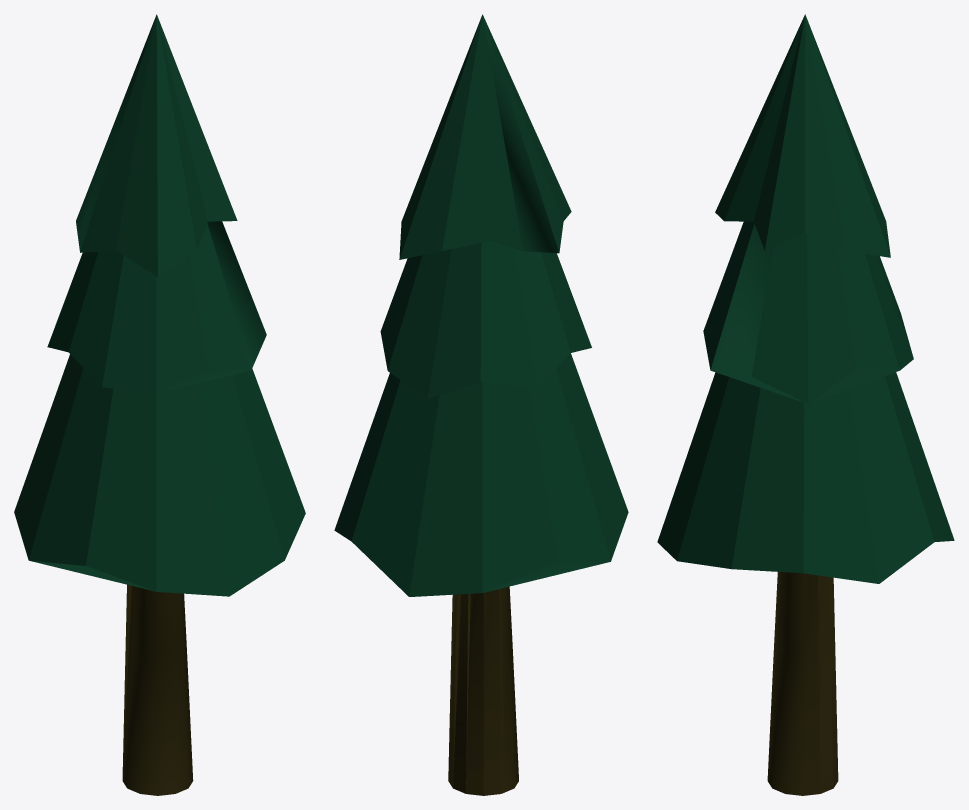
The model's file is prop_pine_large.glb.
3 renders of one model, left to right at view 1: azimuth 30°, elevation 25°; view 2: azimuth 150°, elevation 25°; view 3: azimuth 270°, elevation 25°, orthographic.
Visible parts, largest first — view 1: prop_pine_large; view 2: prop_pine_large; view 3: prop_pine_large.
Boxes of the visible parts, box(x1,y1,x2,y2) form: prop_pine_large: box(14, 14, 305, 795); prop_pine_large: box(334, 14, 628, 795); prop_pine_large: box(657, 14, 954, 795).
Size of the model in its own units: 6.37 by 18.07 by 6.35.
